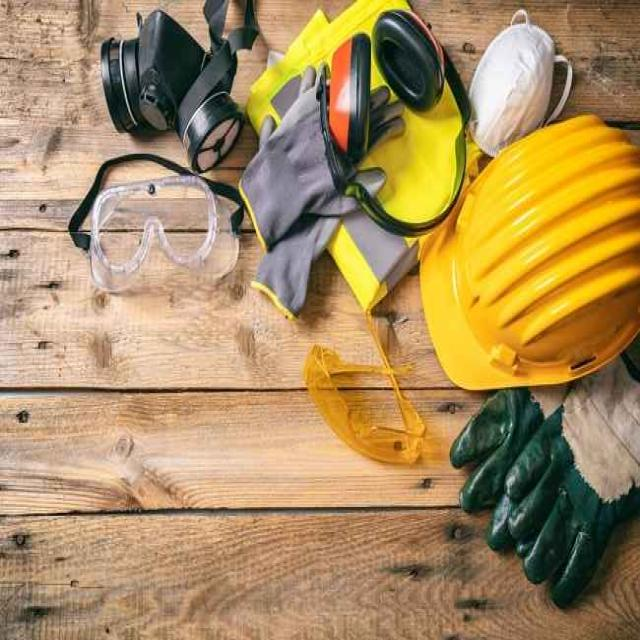glasses: (302, 336, 425, 477), (82, 171, 230, 282)
